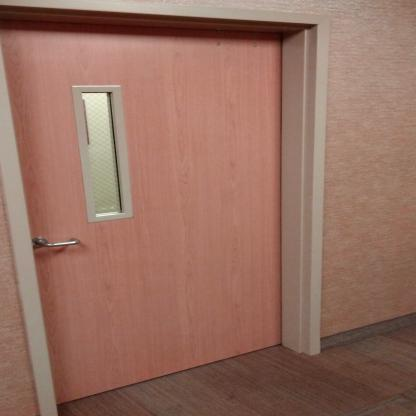door: (28, 28, 283, 404)
lever: (35, 238, 83, 254)
